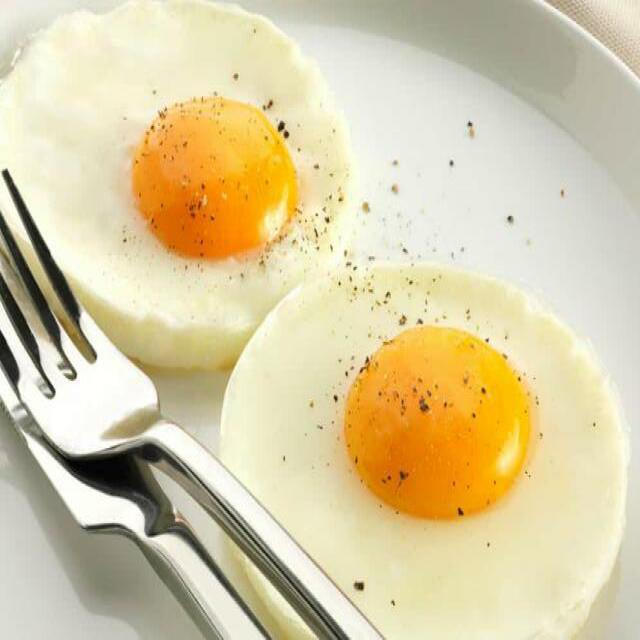Fried Egg: (0, 0, 350, 372)
